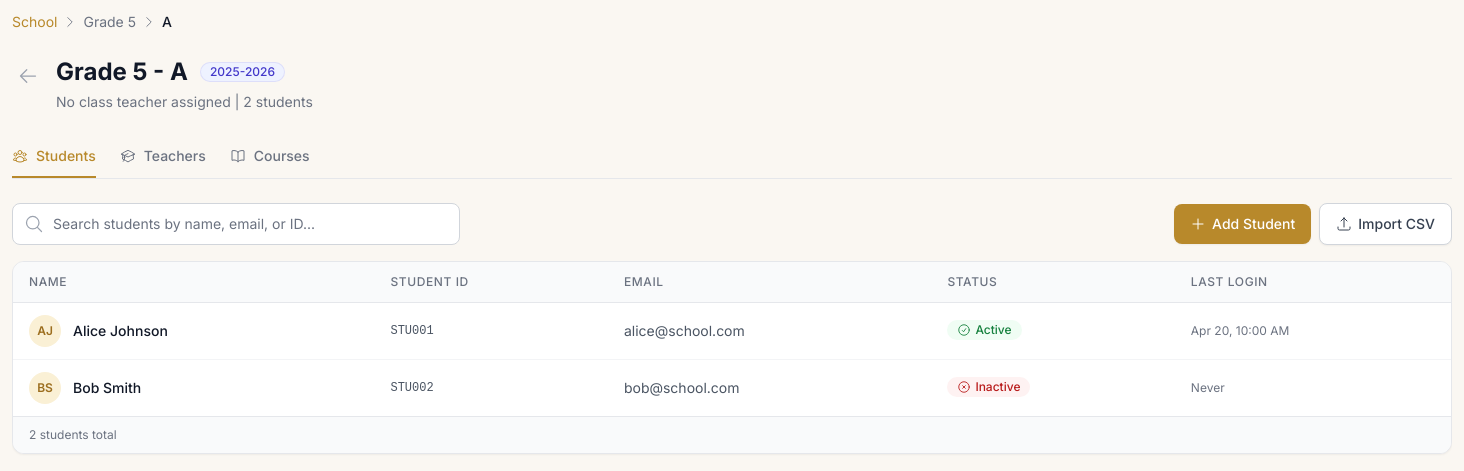
Test: SectionDetailPage › 3. Tab navigation › clicking "Courses" tab shows "Algebra Basics" in the courses list
Click the button "Courses": point(270, 157) [230,136,310,178]
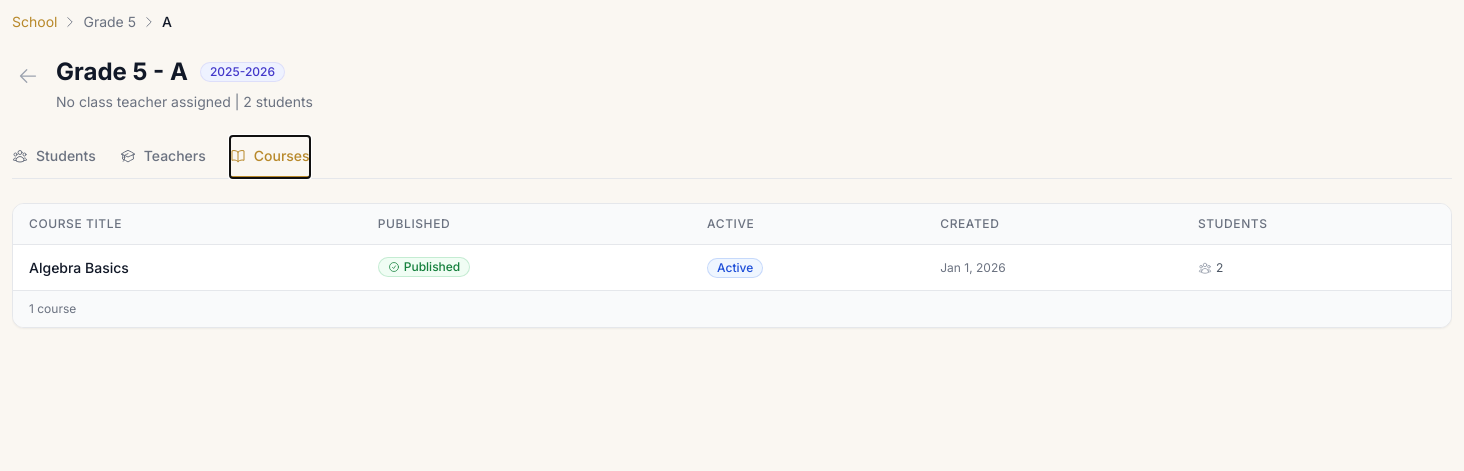
Expected: the text "Algebra Basics" is shown, [29,258,129,276]
